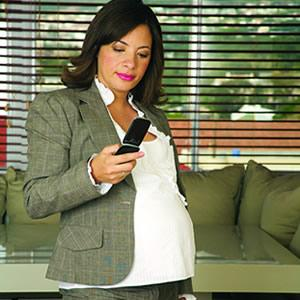person: (22, 2, 197, 299)
